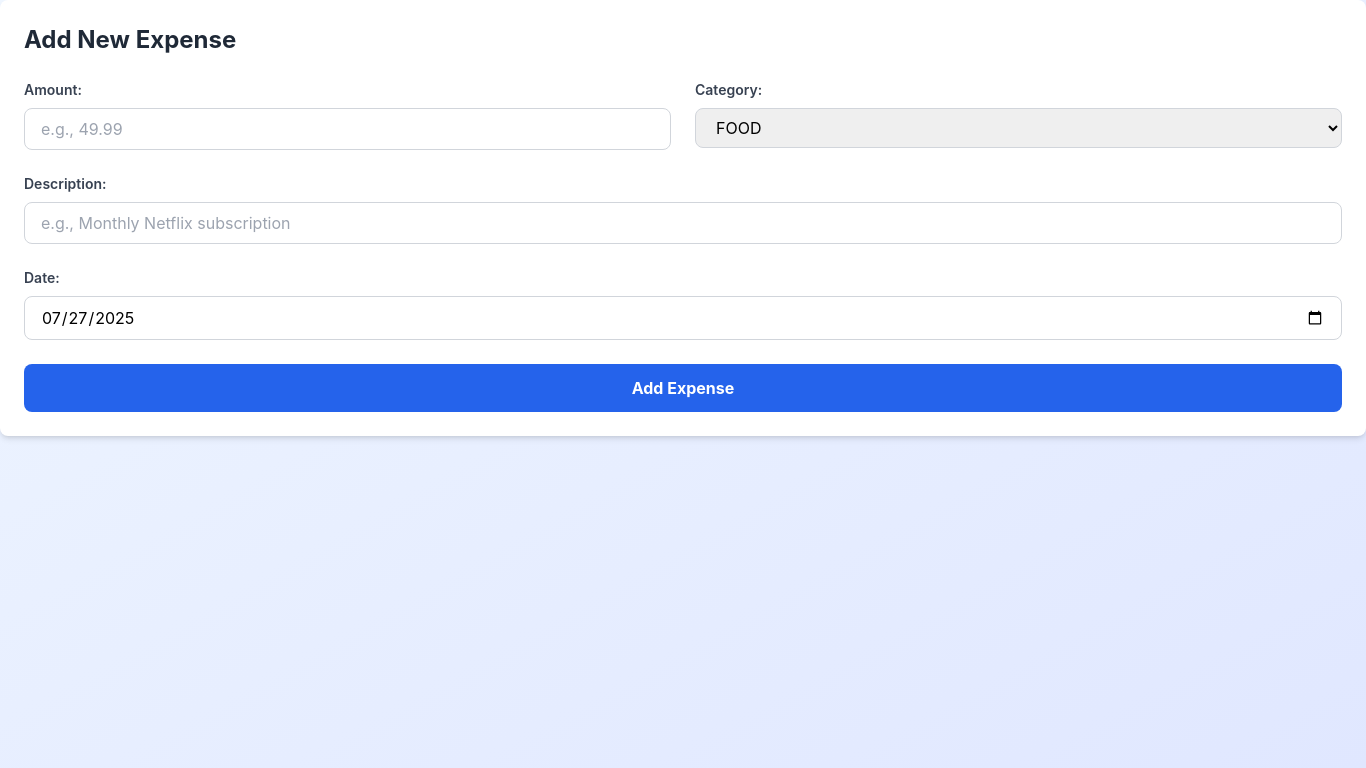
ExpenseForm › clears form fields after successful submission
Type "25.00" into the number field labelled "Amount:". click: (348, 129)
box: top-left (24, 108), bottom-right (671, 150)
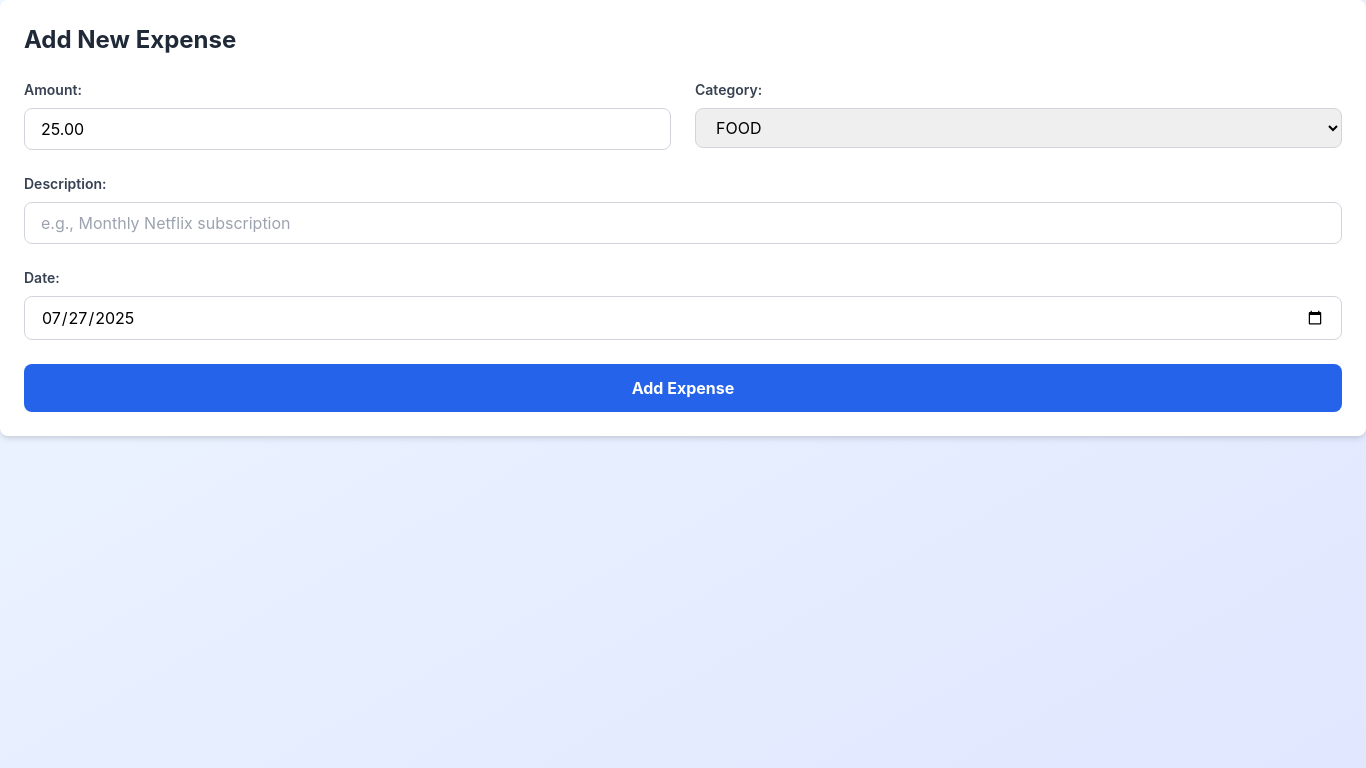
Type "Books" into the field labelled "Description:". click: (683, 223)
box: top-left (24, 202), bottom-right (1342, 244)
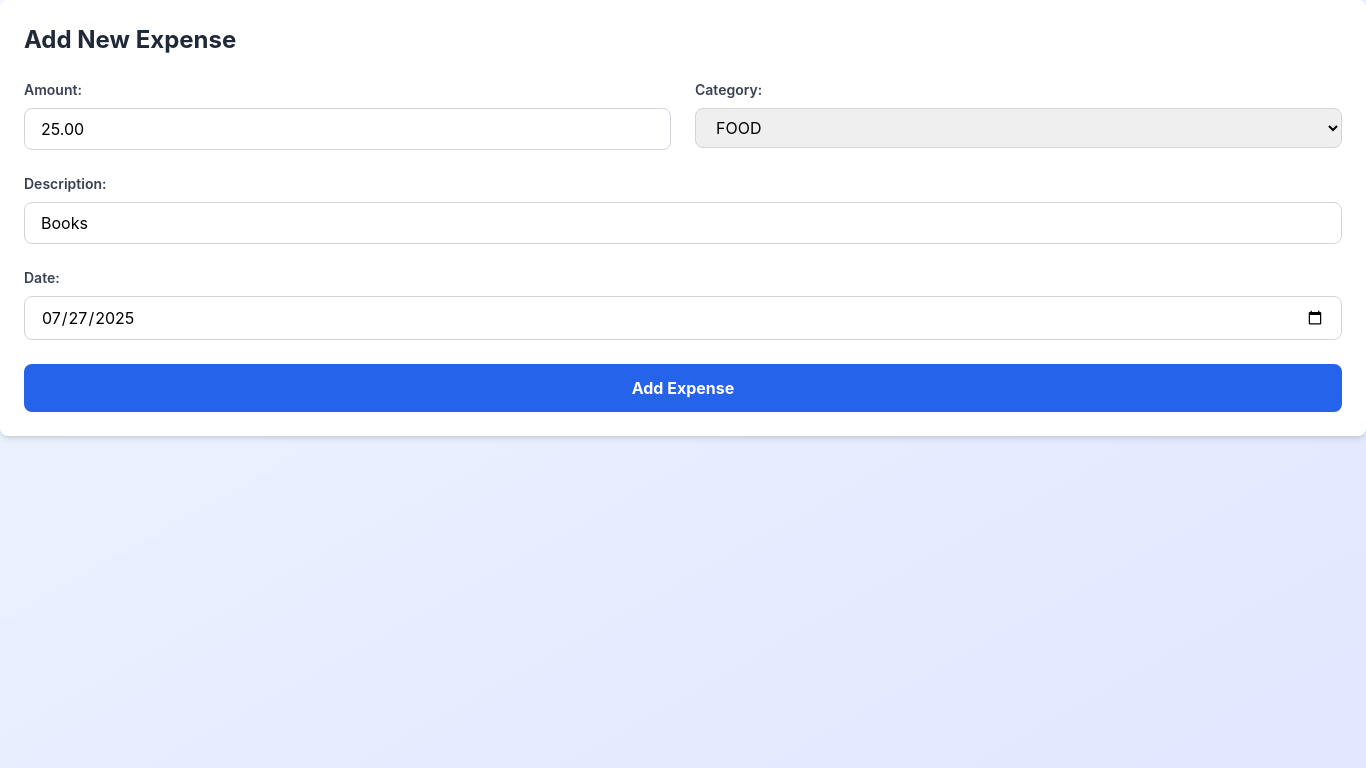
Type "2023-04-01" into the date field labelled "Date:". click: (683, 318)
box: top-left (24, 296), bottom-right (1342, 340)
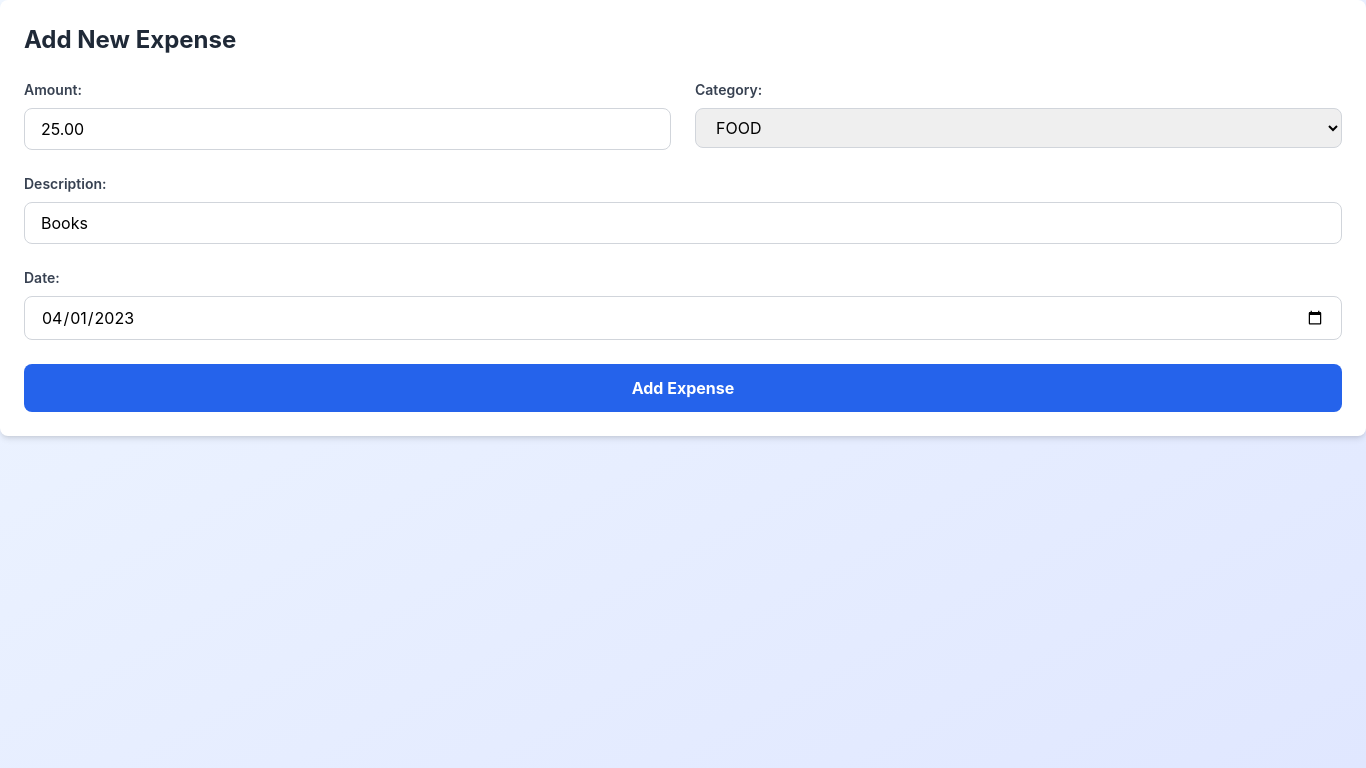
Click the button "Add Expense". click: (683, 388)
box: top-left (24, 364), bottom-right (1342, 412)
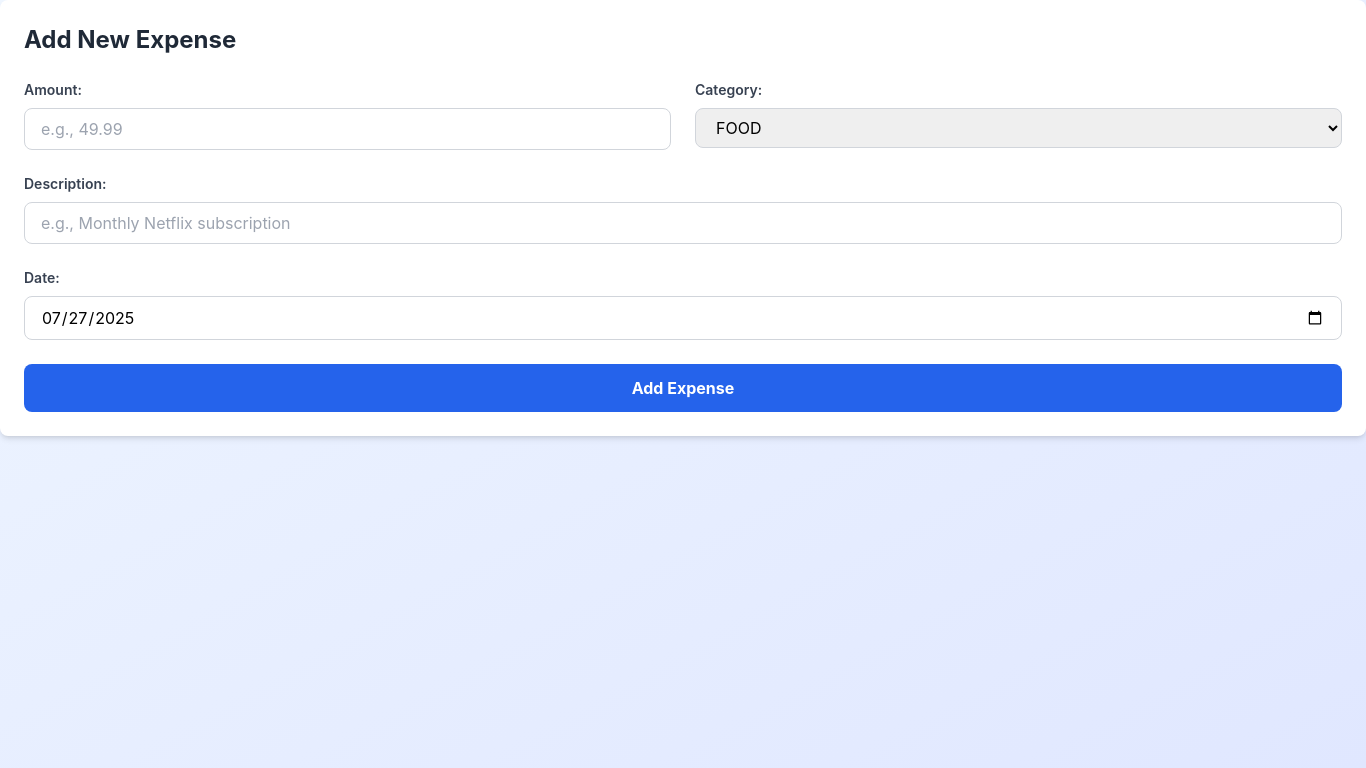
Result: the number field labelled "Amount:" is empty at top-left (24, 108), bottom-right (671, 150)
Result: the field labelled "Description:" is empty at top-left (24, 202), bottom-right (1342, 244)
Result: the date field labelled "Date:" does not hold "2023-04-01" at top-left (24, 296), bottom-right (1342, 340)
